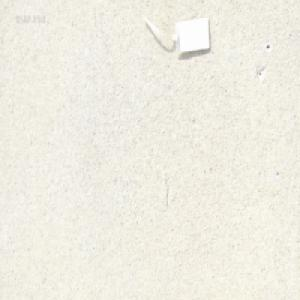LuggageTag: (139, 9, 212, 56)
